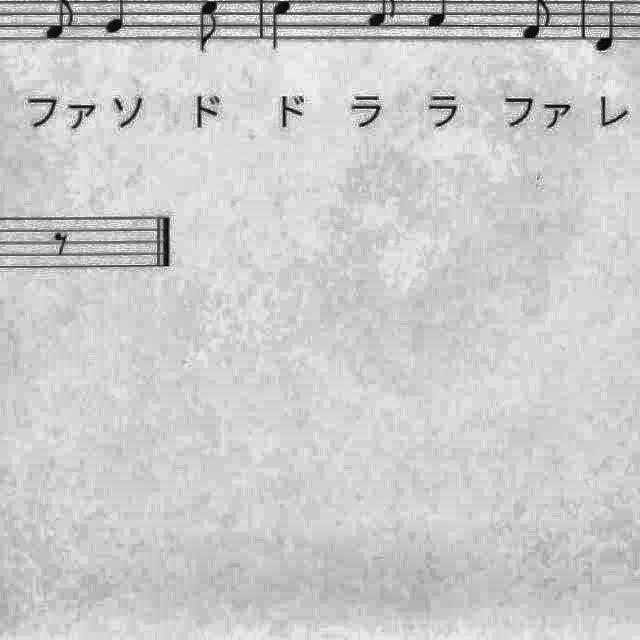Eighth-rest: (48, 223, 76, 261)
Quarter-note: (590, 0, 626, 56)
